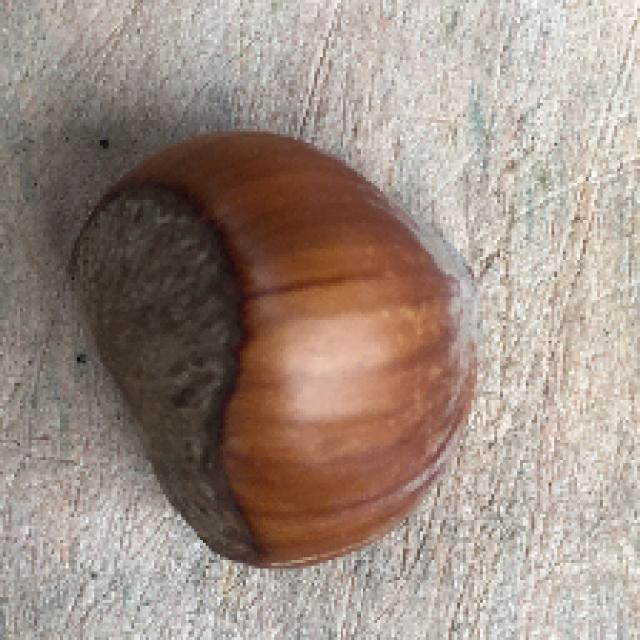qualityHazelnut: (64, 121, 482, 568)
